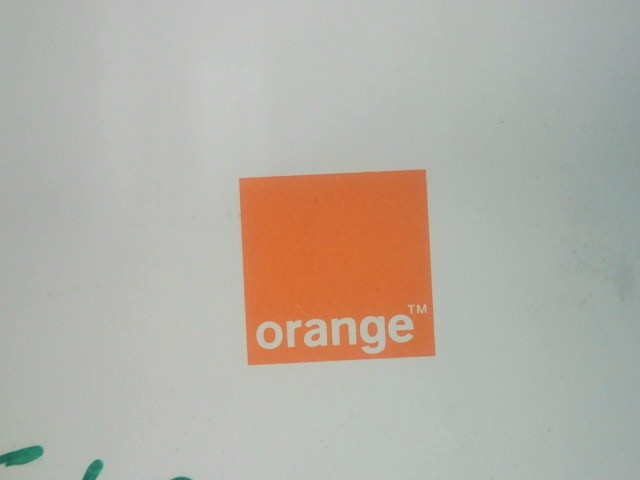AR_Orange: (234, 167, 438, 370)
